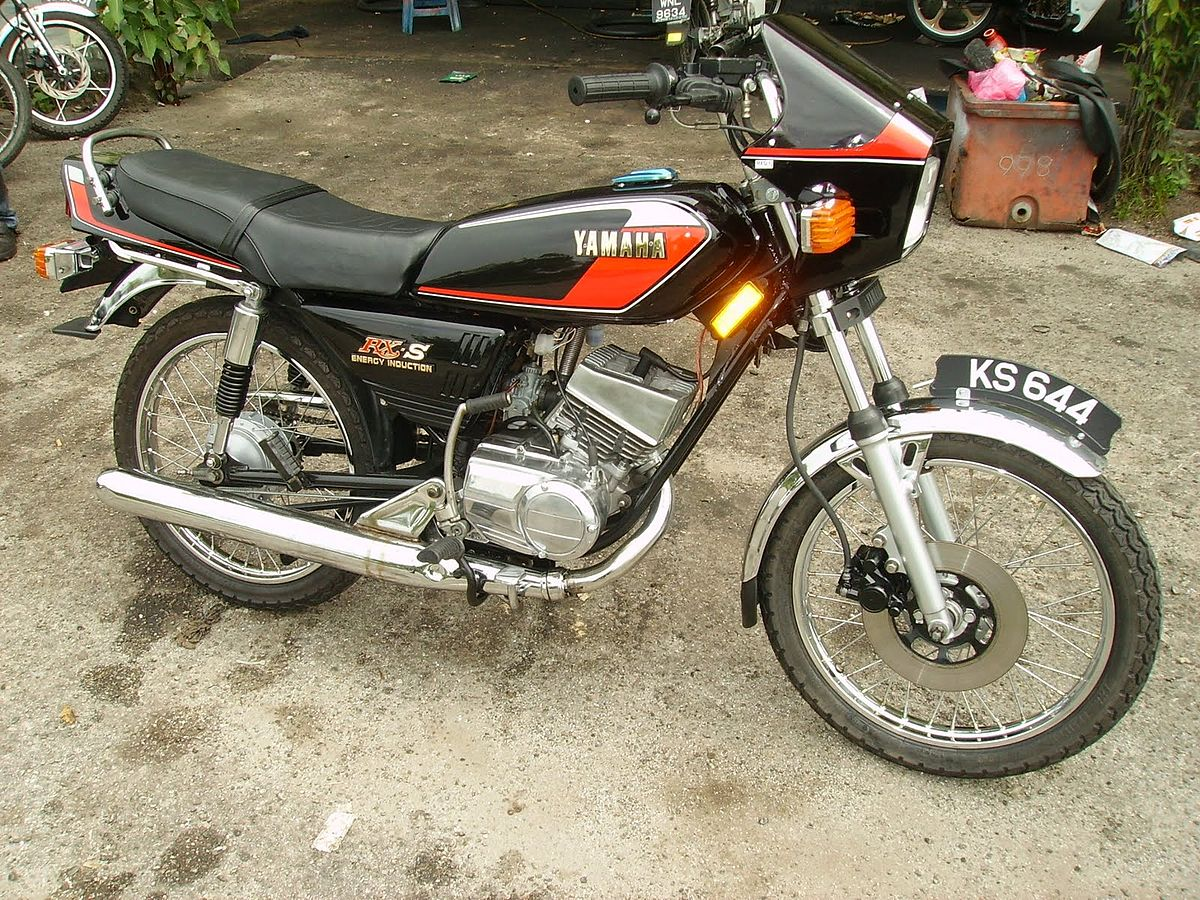motorbike: (35, 10, 1173, 780)
